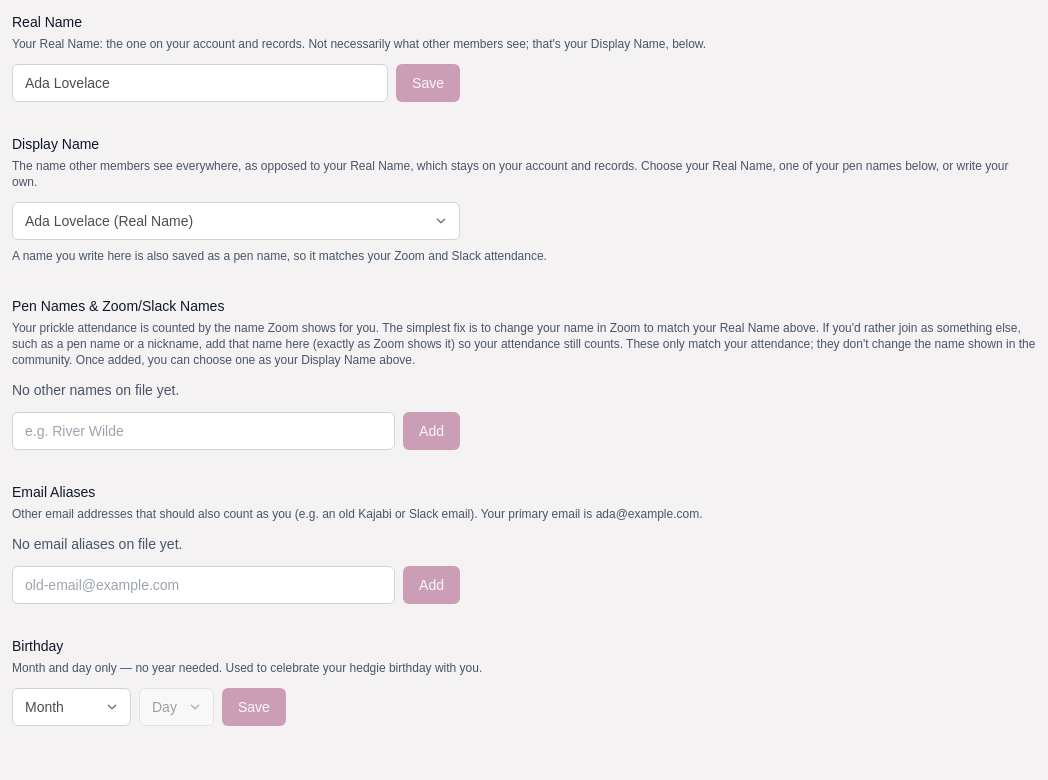
Test case: IdentityPanel › renders the status region with the message once a save succeeds
Replace the text in the field showing "Ada Lovelace" with "Ada King". click: (200, 83)
box: x1=12 y1=64 x2=388 y2=102
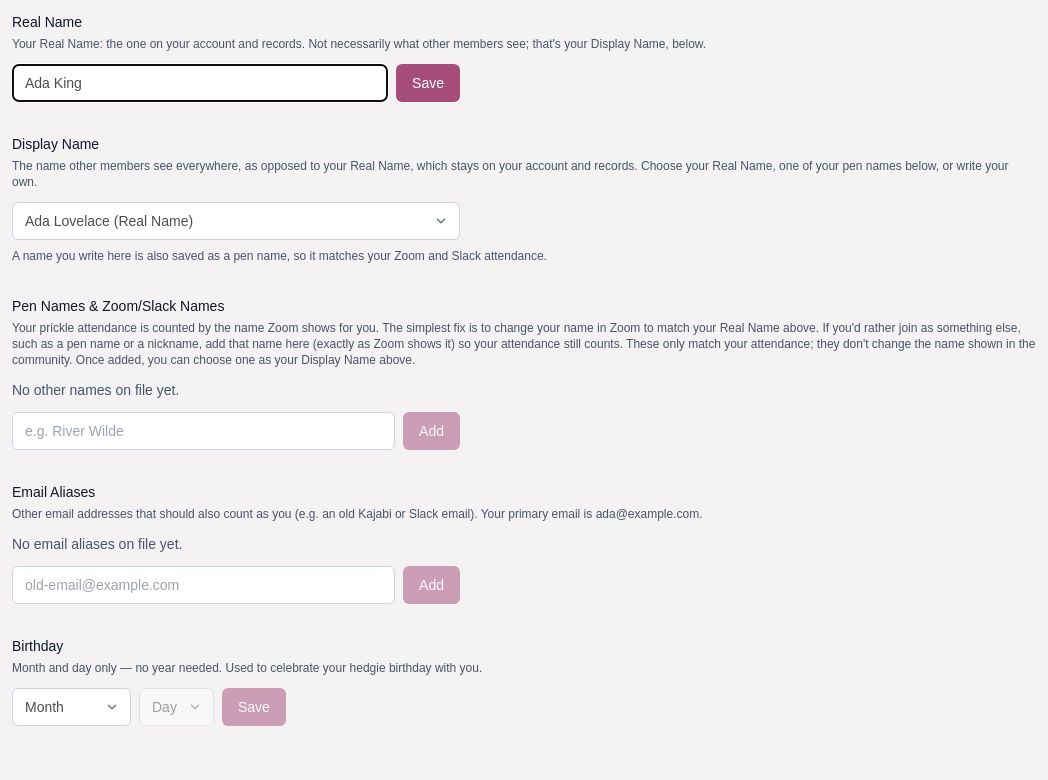
Click the 1st button "Save". click: (428, 83)
box: x1=396 y1=64 x2=460 y2=102
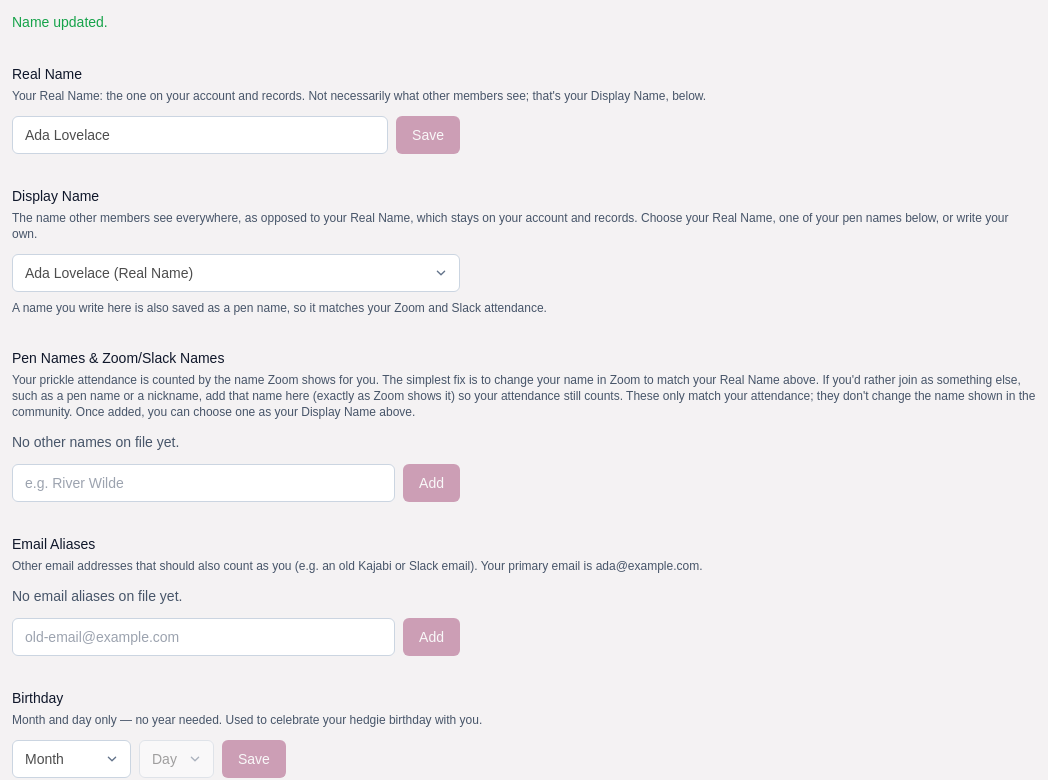
Expected: the message reads "Name updated.", x1=12 y1=14 x2=108 y2=30
